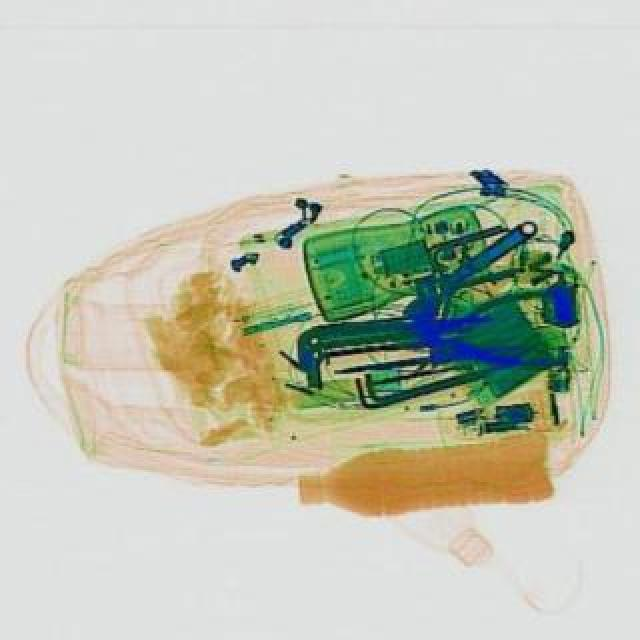scissors: (394, 206, 546, 332)
wrench: (402, 286, 560, 370)
